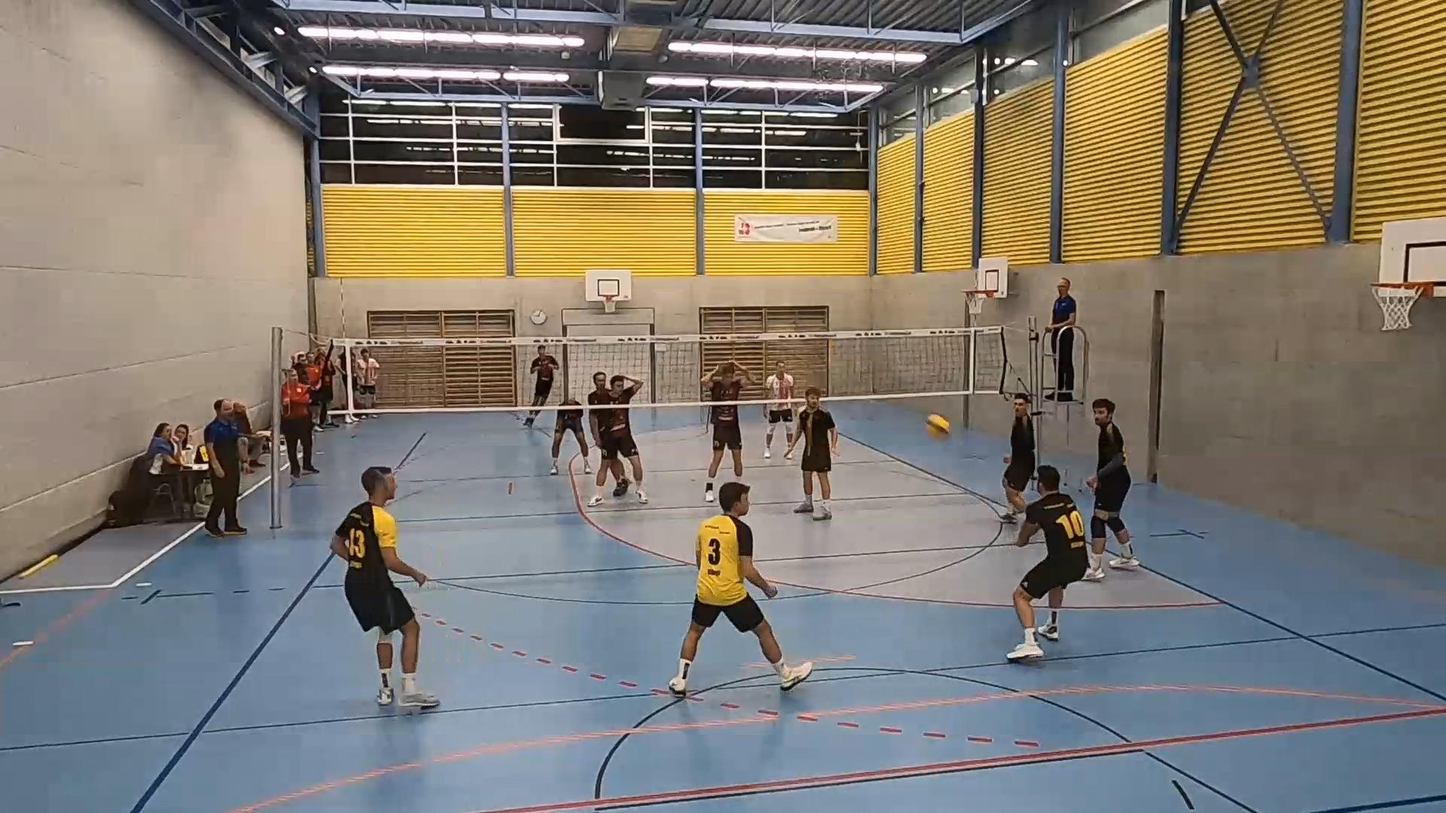Player: (668, 482, 813, 696), (331, 467, 438, 708), (1084, 398, 1139, 580), (787, 387, 837, 519), (596, 374, 647, 503), (1000, 393, 1035, 522), (704, 403, 743, 502), (550, 396, 591, 473), (764, 361, 794, 458), (523, 346, 557, 427), (587, 371, 612, 450)
Receive: (1003, 458, 1094, 674)
ball: (928, 420, 955, 438)
